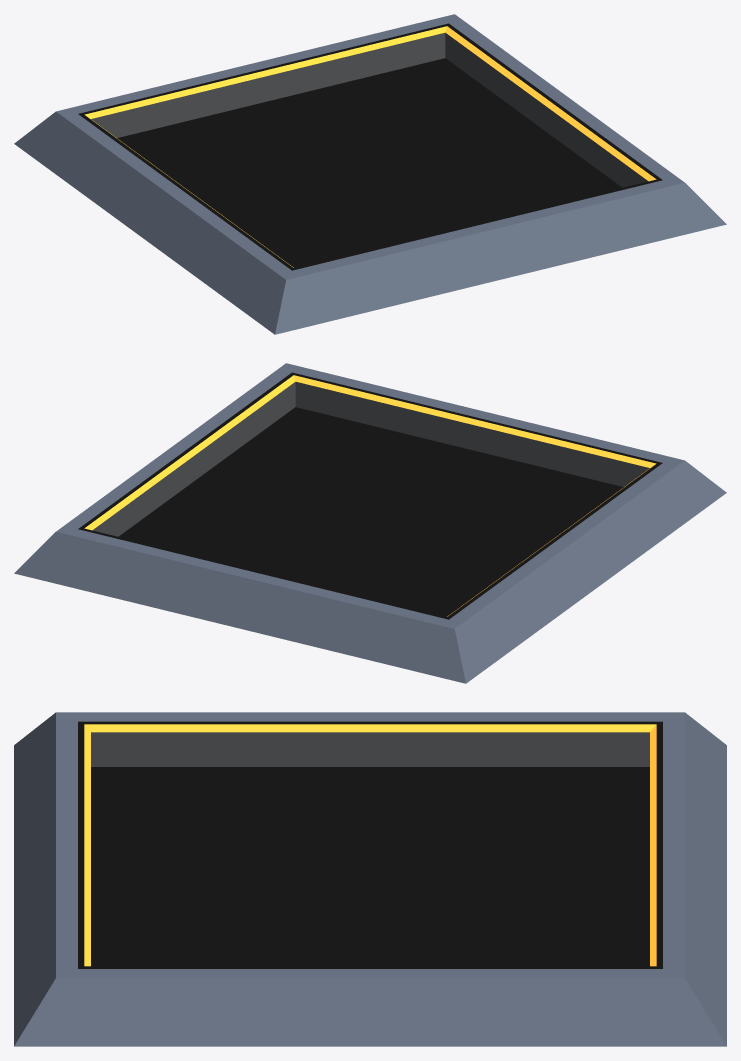
The model's file is baseBlock.glb.
3 views of the same model, one above another, from view 1: azimuth 30°, elevation 25°; view 2: azimuth 150°, elevation 25°; view 3: azimuth 270°, elevation 25° (orthographic). The views are drawn at different scales.
Parts seen in each view (by area): view 1: Cube; view 2: Cube; view 3: Cube.
Boxes of the visible parts, x1,y1,x2,y2 form: Cube: (14,14,726,334); Cube: (14,363,726,683); Cube: (14,712,726,1046).
Size of the model in its own units: 5.1 by 0.4 by 5.1.
